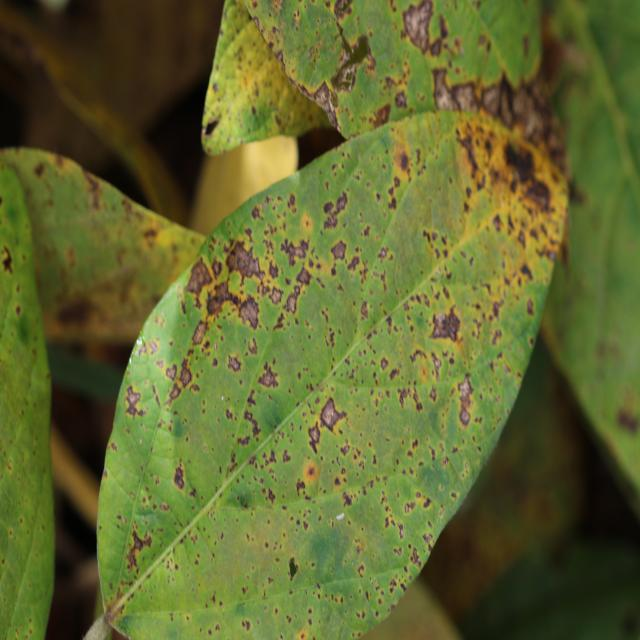Bacterial_Blight: (502, 137, 545, 197), (402, 0, 437, 53), (432, 67, 473, 112), (226, 238, 265, 285), (432, 290, 461, 348), (282, 263, 314, 315), (312, 80, 341, 126), (456, 129, 483, 178), (126, 527, 153, 572), (185, 257, 213, 297), (322, 190, 350, 230), (319, 396, 347, 432), (280, 236, 310, 269), (495, 73, 516, 119), (57, 298, 91, 326), (457, 374, 474, 428), (238, 295, 261, 330), (123, 384, 146, 419), (84, 171, 104, 210), (596, 336, 622, 363), (242, 407, 263, 440), (408, 489, 434, 515), (397, 385, 421, 411), (257, 362, 280, 389), (617, 406, 640, 433), (175, 360, 193, 391), (567, 180, 586, 206), (191, 319, 208, 347), (371, 103, 390, 128), (307, 423, 321, 452), (333, 0, 353, 20), (1, 244, 14, 274), (395, 148, 410, 173), (330, 240, 347, 262), (173, 464, 186, 490), (64, 245, 77, 268), (519, 262, 533, 283), (227, 354, 242, 373), (394, 89, 408, 109), (409, 546, 421, 567), (275, 49, 286, 71), (165, 363, 177, 382), (34, 161, 46, 178), (296, 479, 307, 497), (265, 488, 276, 504), (526, 298, 535, 317), (342, 492, 353, 507), (253, 16, 262, 32), (380, 356, 389, 371), (241, 619, 251, 632), (357, 564, 365, 578), (14, 303, 21, 317), (271, 26, 279, 36)
Soybean: (99, 111, 567, 638)
